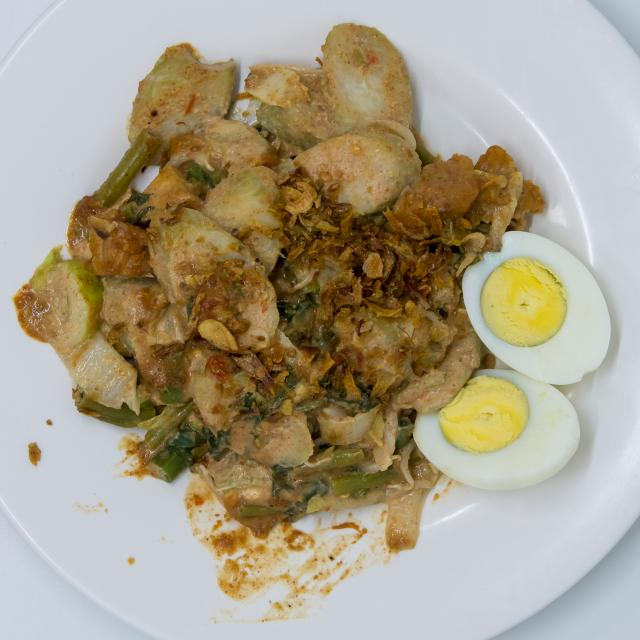Gado-Gado: (28, 9, 623, 558)
